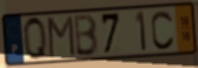1: (134, 10, 148, 53)
7: (101, 12, 122, 56)
B: (73, 12, 100, 58)
C: (150, 8, 176, 51)
M: (47, 14, 77, 60)
Q: (21, 15, 51, 63)
